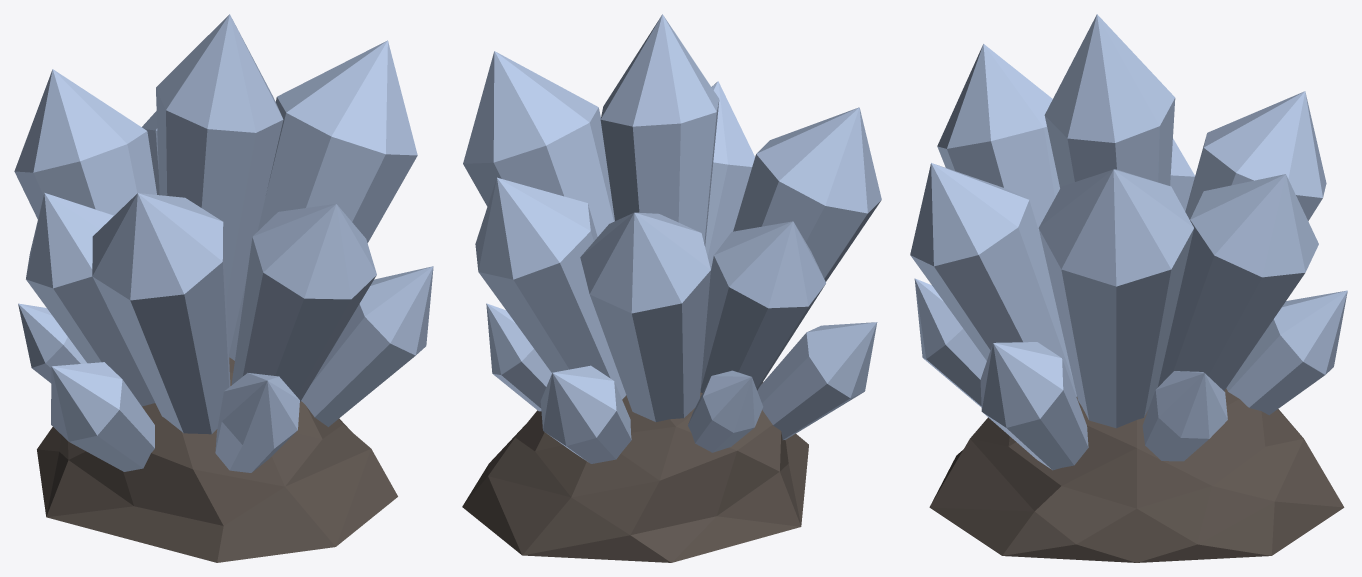
The model's file is diamond_metal_1.fbx.
3 views of the same model, side by side, from view 1: azimuth 30°, elevation 25°; view 2: azimuth 150°, elevation 25°; view 3: azimuth 270°, elevation 25° (orthographic). The views are drawn at different scales.
Visible parts, largest first — view 1: Crystal, Rock; view 2: Crystal, Rock; view 3: Crystal, Rock.
Part boxes in pixels (x1,y1,x2,y2): Crystal: (14, 14, 433, 472); Rock: (37, 357, 397, 562); Crystal: (463, 14, 881, 463); Rock: (462, 382, 808, 562); Crystal: (910, 14, 1347, 470); Rock: (929, 388, 1344, 562).
Size of the model in its own units: 135 by 158 by 130.
